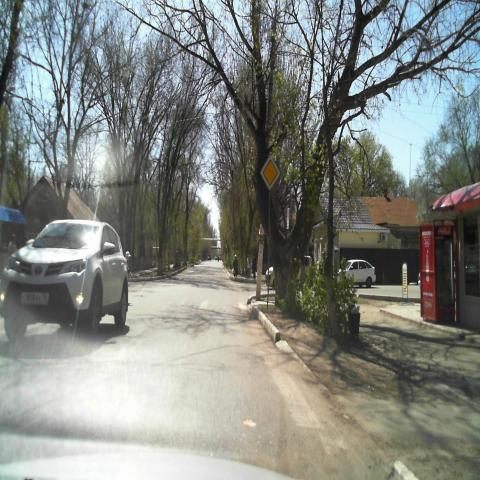2_1: (260, 156, 281, 190)
